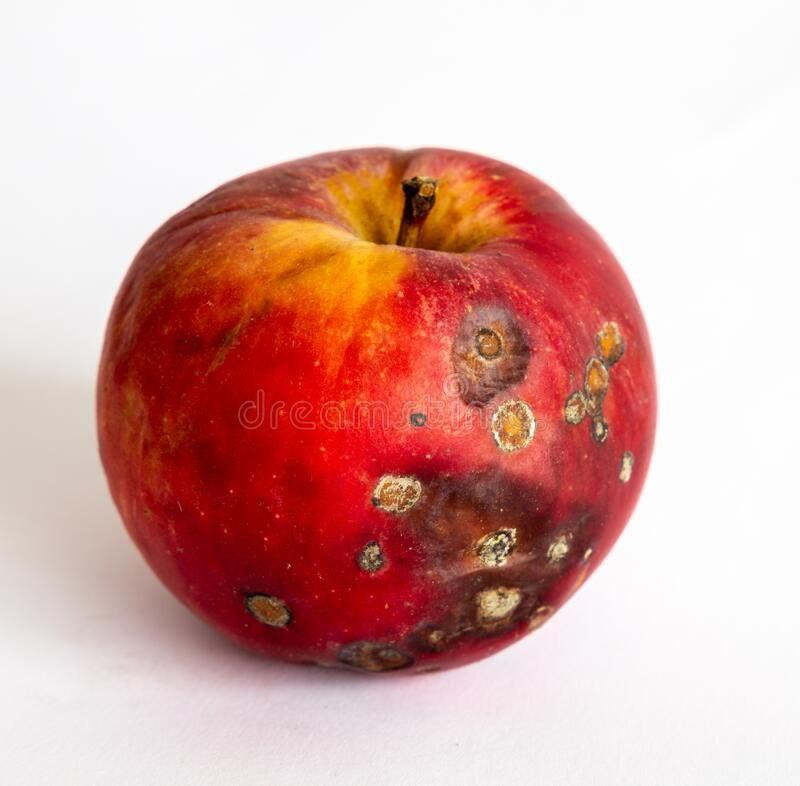Apple: (92, 146, 654, 676)
